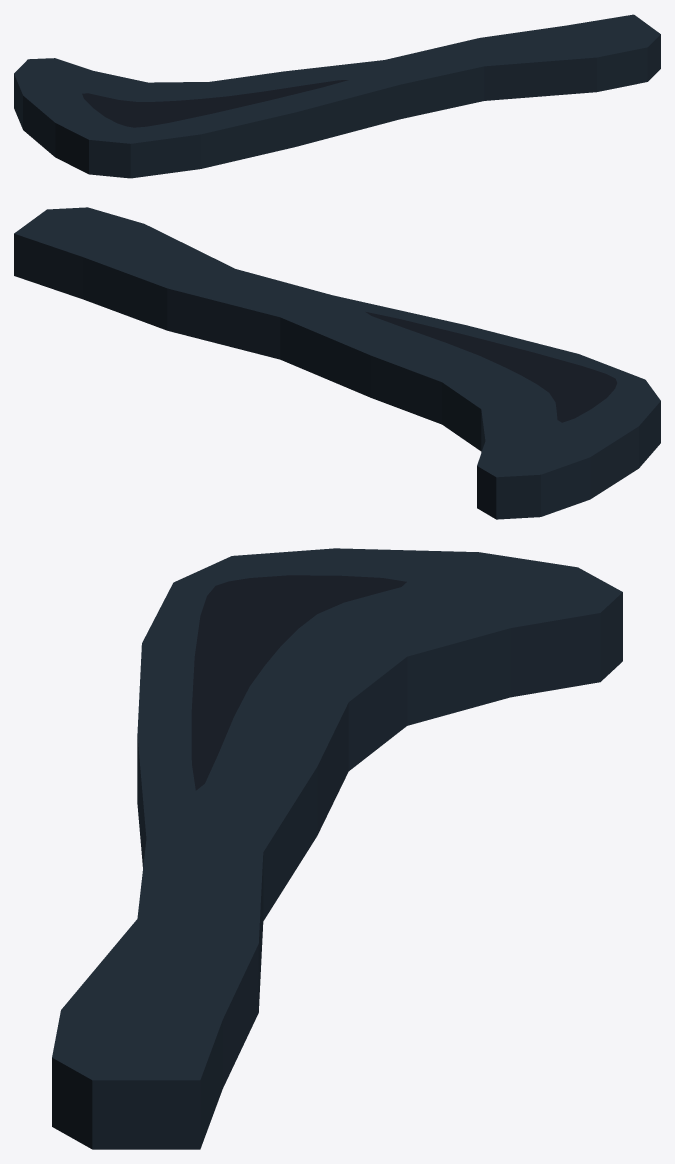
Rendered from stick.glb.
3 views of the same model, one above another, from view 1: azimuth 30°, elevation 25°; view 2: azimuth 150°, elevation 25°; view 3: azimuth 270°, elevation 25° (orthographic). The views are drawn at different scales.
Visible parts, largest first — view 1: Pusher, Pusher recess; view 2: Pusher, Pusher recess; view 3: Pusher, Pusher recess.
Boxes of the visible parts, x1=… form: Pusher: x1=14, y1=14, x2=660, y2=178; Pusher recess: x1=82, y1=80, x2=348, y2=127; Pusher: x1=14, y1=207, x2=660, y2=519; Pusher recess: x1=366, y1=312, x2=616, y2=422; Pusher: x1=52, y1=548, x2=622, y2=1149; Pusher recess: x1=191, y1=575, x2=406, y2=790.
Size of the model in its own units: 0.28 by 0.0195 by 0.127.
